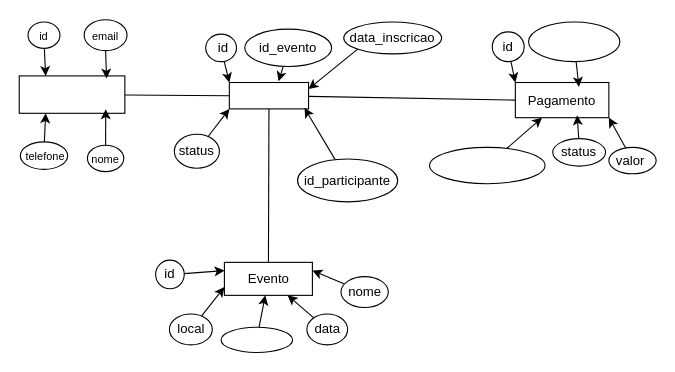
Image size: 675x372. Some labels were removed from this diagram. The shapes that lost their labels are listed below. From the top down, each one's centre as x and y in pixels, then its label:
the point at 573,41: id_inscricao
the point at 71,94: Participante
the point at 268,95: Inscrição
the point at 486,165: data_pagamento
the point at 256,339: descricao
